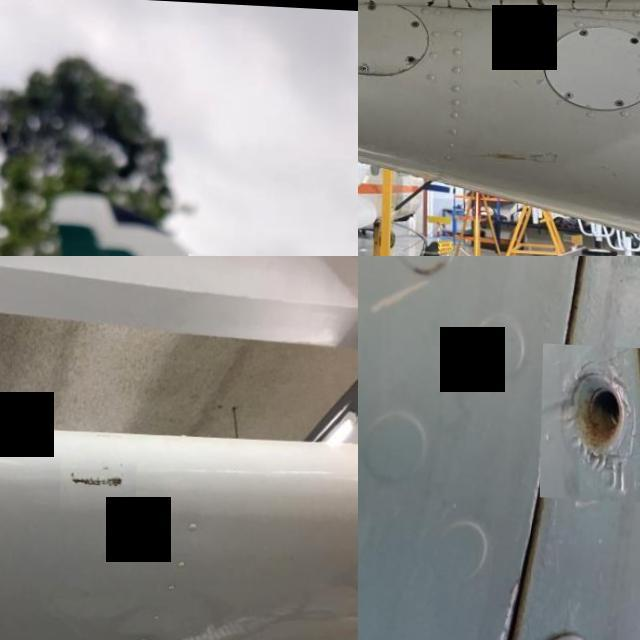Crack: (62, 452, 138, 516)
Missing_Fastener: (541, 339, 640, 499), (548, 51, 558, 60), (408, 52, 418, 60), (630, 31, 640, 38)
